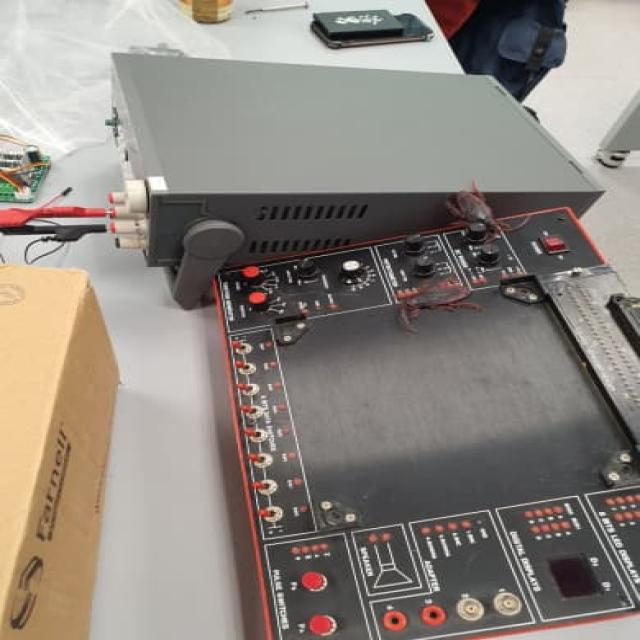Cockroach: (428, 177, 537, 245), (389, 272, 491, 331)
